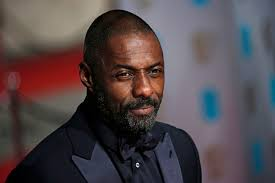person: (78, 8, 166, 133)
